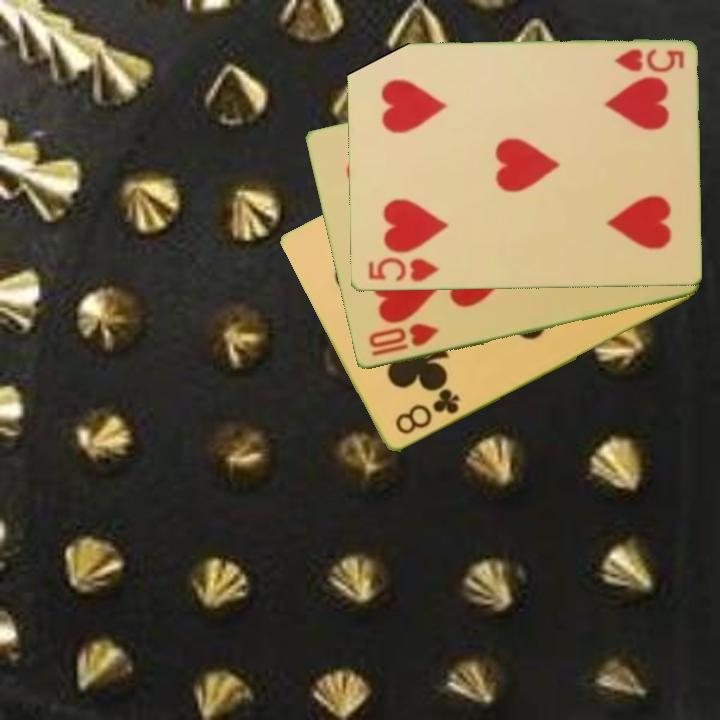10h: (365, 320, 442, 360)
5h: (364, 254, 441, 285), (610, 45, 687, 76)
8c: (391, 385, 463, 438)
